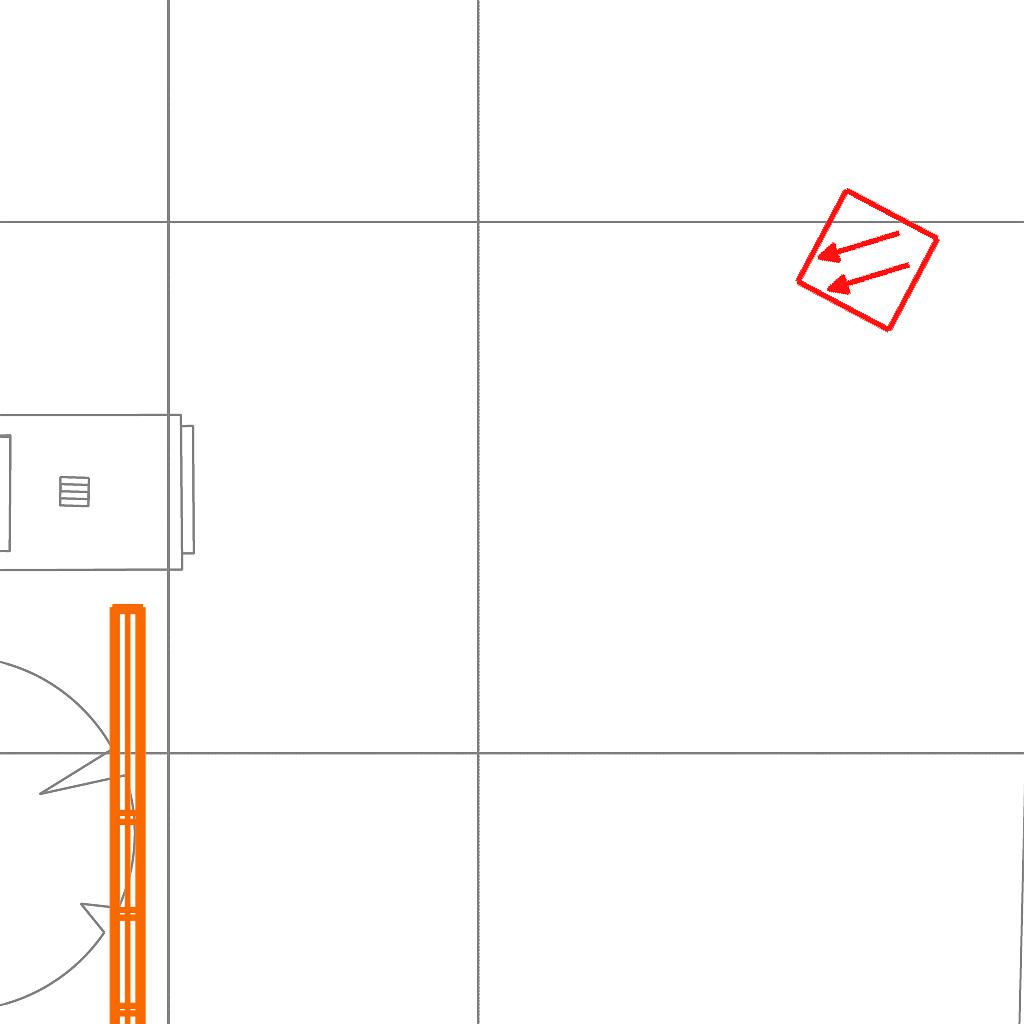Ambulanz_Pendelleuchte_LED: (97, 593, 209, 1024)
RMO_Rauchmelder_optischer: (791, 184, 944, 337)
